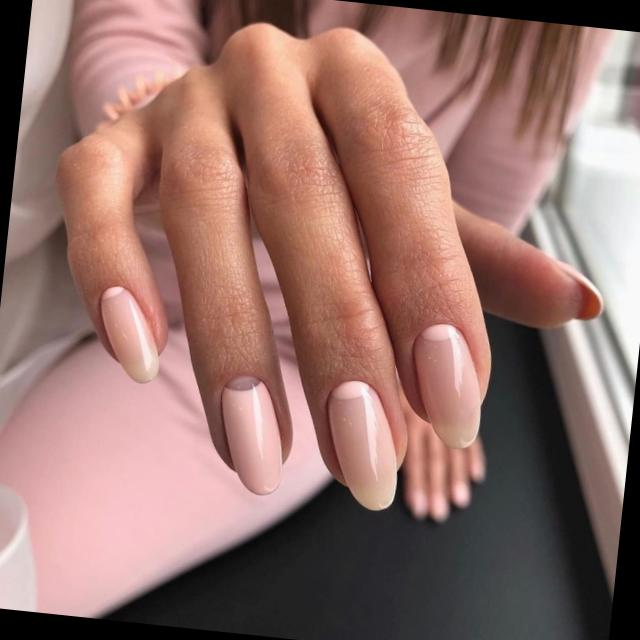Nail: (326, 381, 397, 509), (413, 323, 481, 447), (220, 375, 282, 495), (99, 287, 158, 383)
